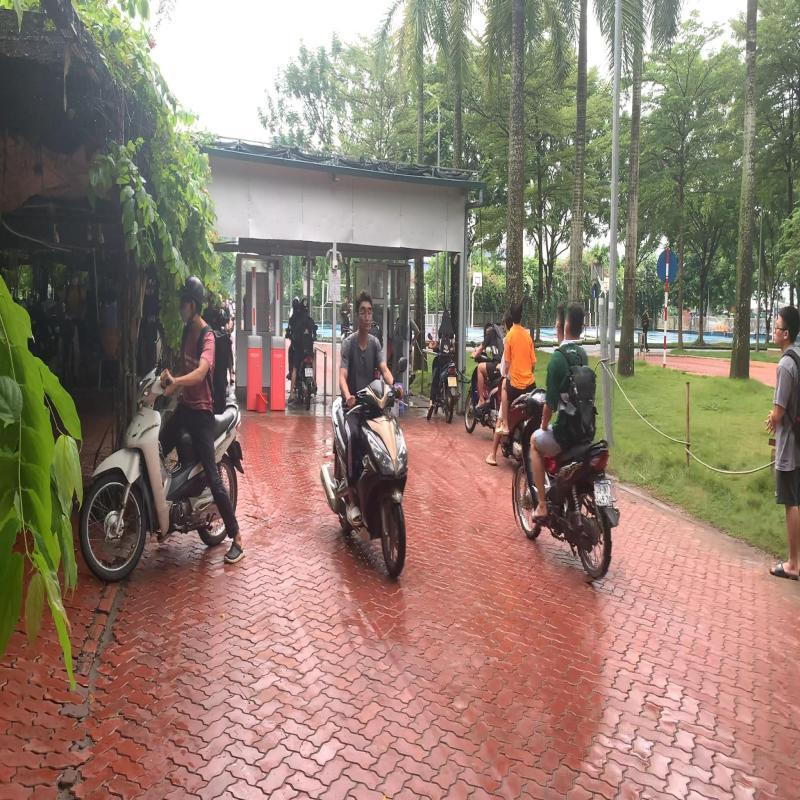licenseplate: (592, 482, 614, 508)
motorcyclist: (506, 300, 622, 585)
nohelmet: (564, 302, 584, 340)
